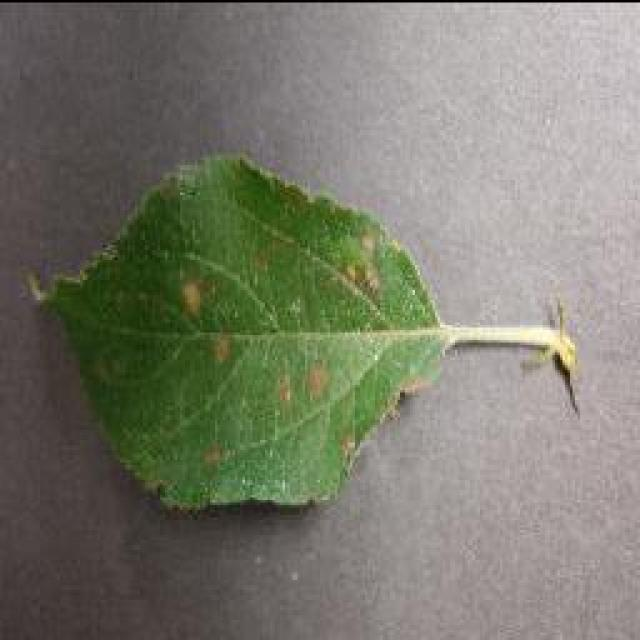apple cedar apple rust: (22, 150, 580, 518)
